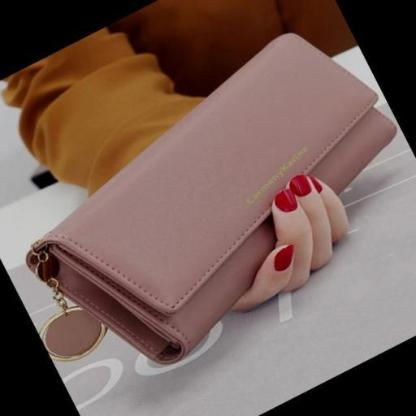bag: (15, 27, 402, 367)
